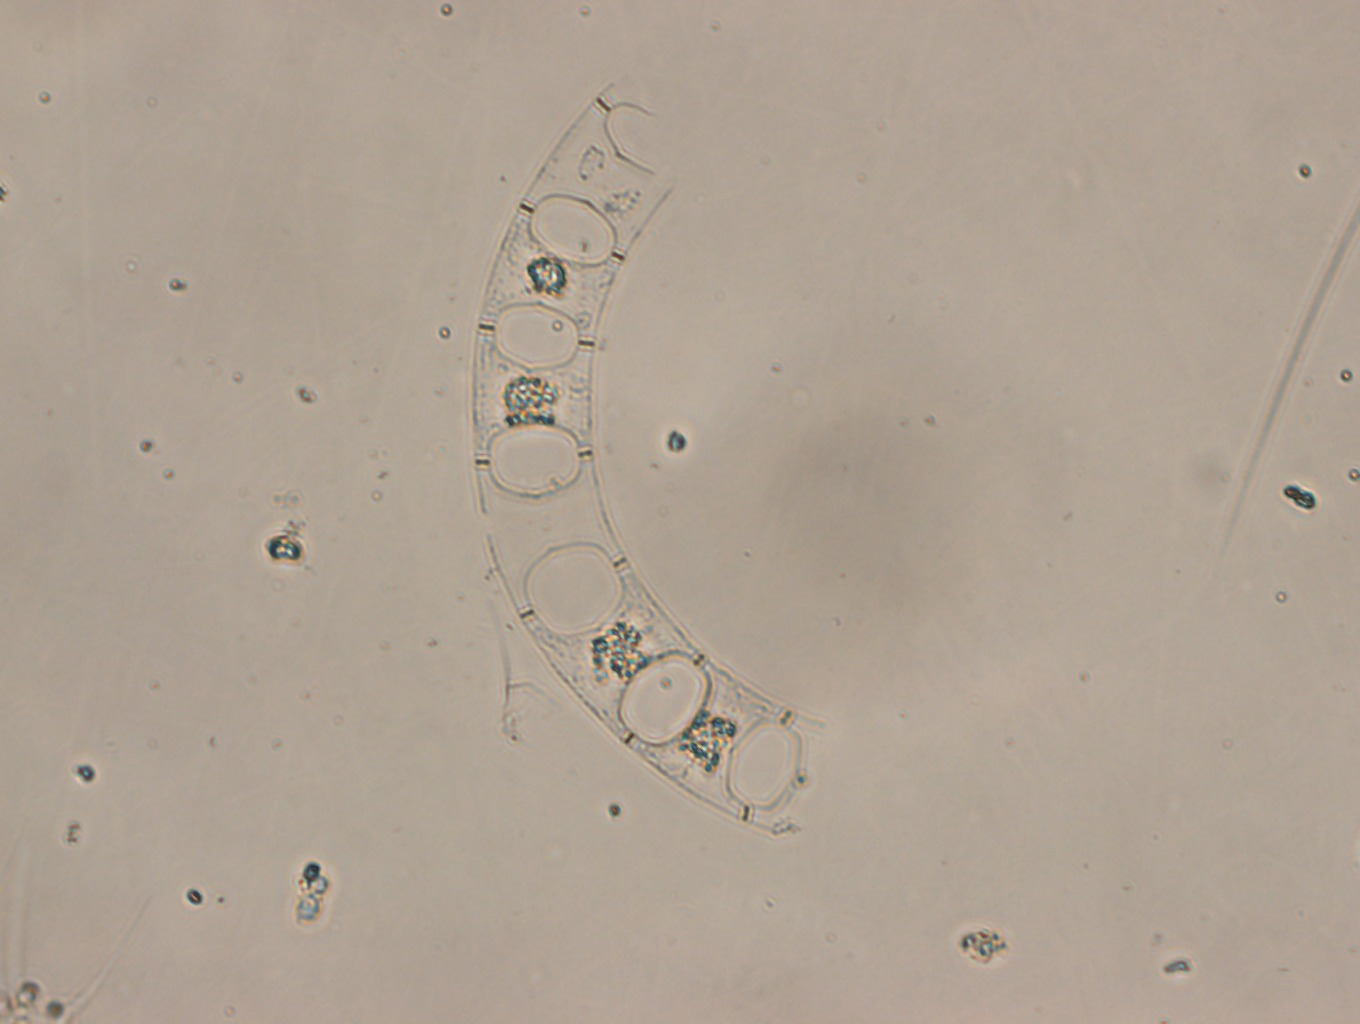eucampia: (471, 79, 827, 833)
